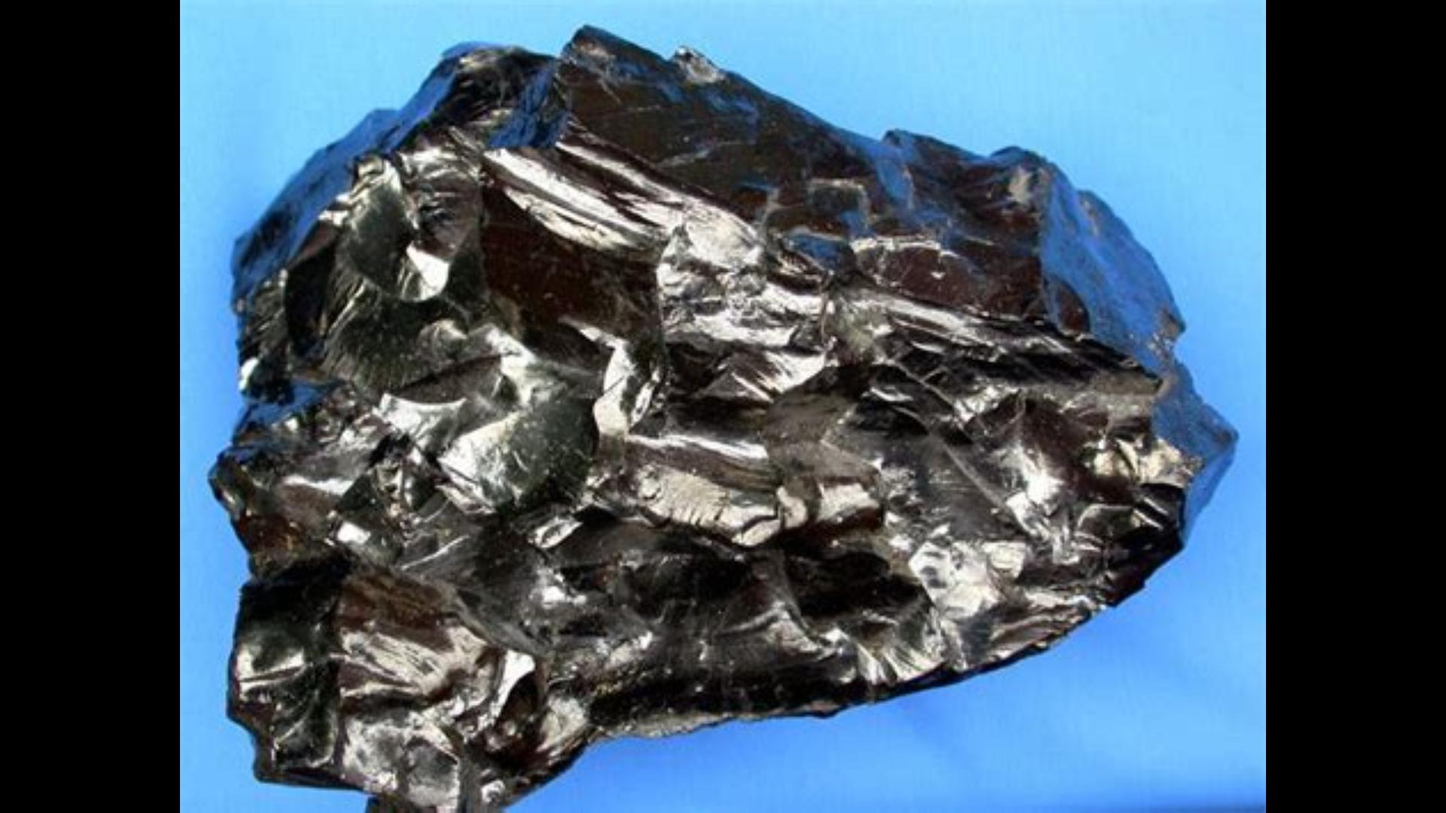rock: (212, 27, 1232, 811)
